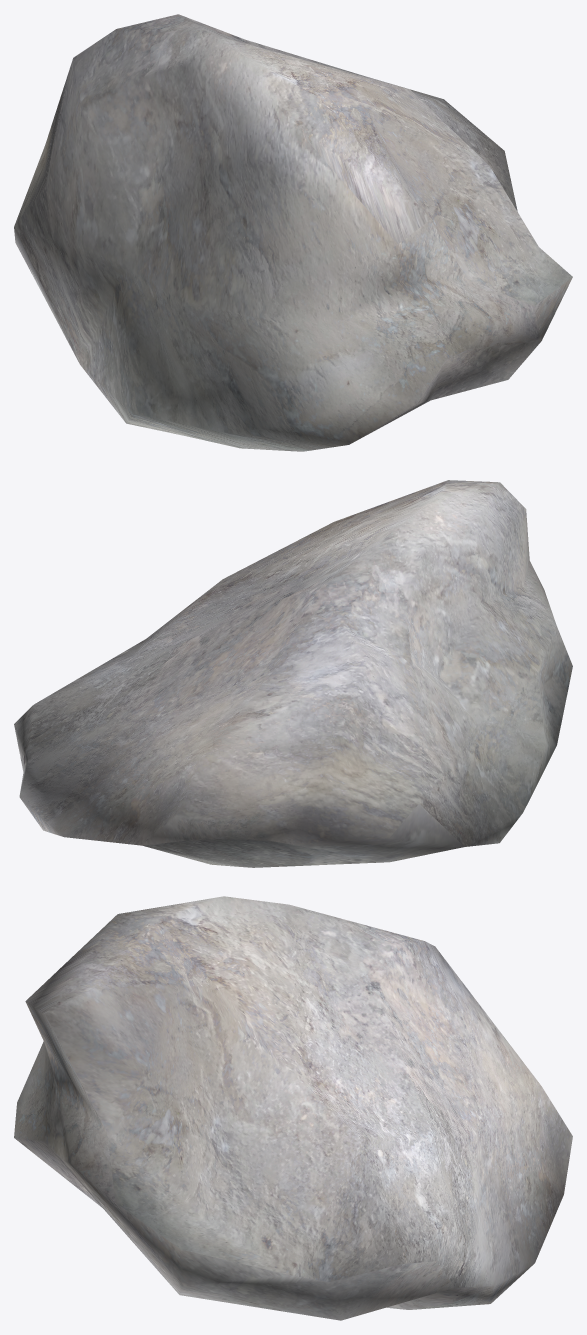
The model's file is rock_00H_lp2_2k.fbx.
3 views of the same model, one above another, from view 1: azimuth 30°, elevation 25°; view 2: azimuth 150°, elevation 25°; view 3: azimuth 270°, elevation 25° (orthographic). The views are drawn at different scales.
Visible parts, largest first — view 1: rock_00H_lp2_2k; view 2: rock_00H_lp2_2k; view 3: rock_00H_lp2_2k.
Boxes of the visible parts, bbox=[...] form: rock_00H_lp2_2k: bbox=[14, 14, 572, 451]; rock_00H_lp2_2k: bbox=[14, 480, 572, 867]; rock_00H_lp2_2k: bbox=[14, 896, 572, 1320].
Bounding box in the file's own units: 123 × 97.47 × 151.
